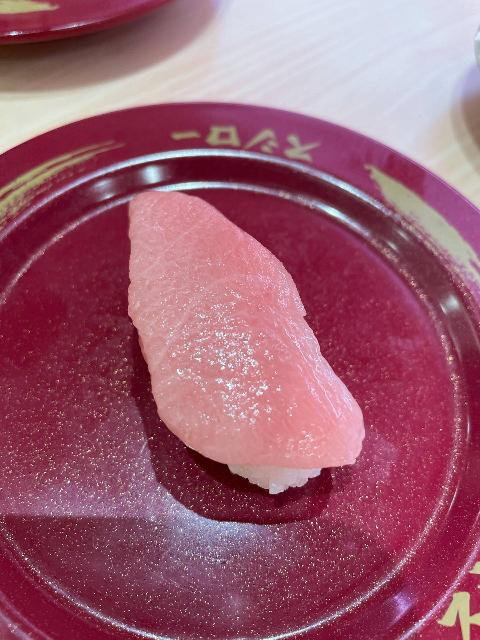janred: (0, 112, 459, 628), (0, 0, 186, 37)
